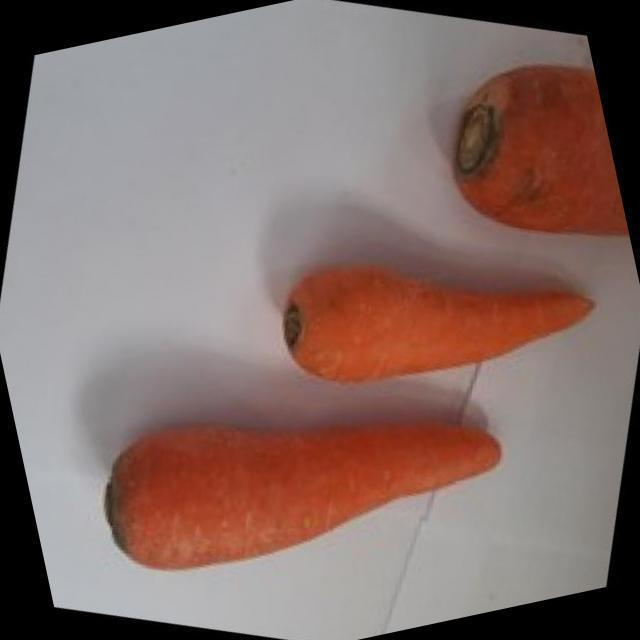carrot: (108, 421, 500, 569), (284, 265, 592, 381), (455, 65, 626, 233)
